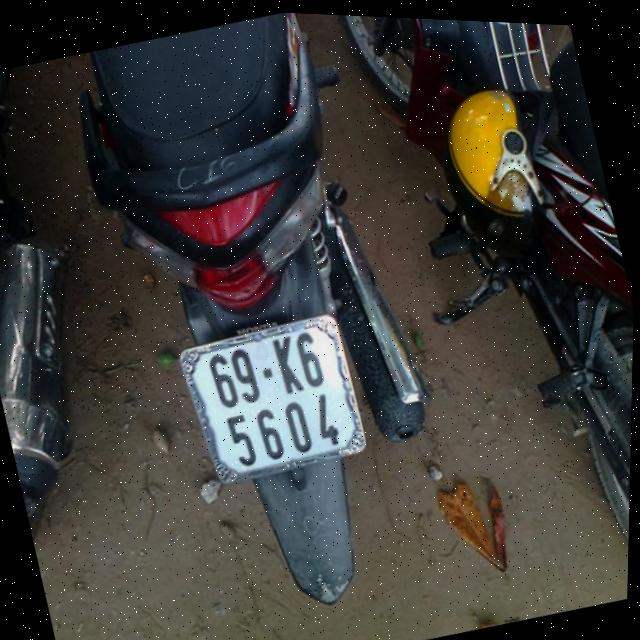motorcycle: (50, 3, 484, 640), (310, 14, 640, 638)
plate: (171, 303, 376, 496)
